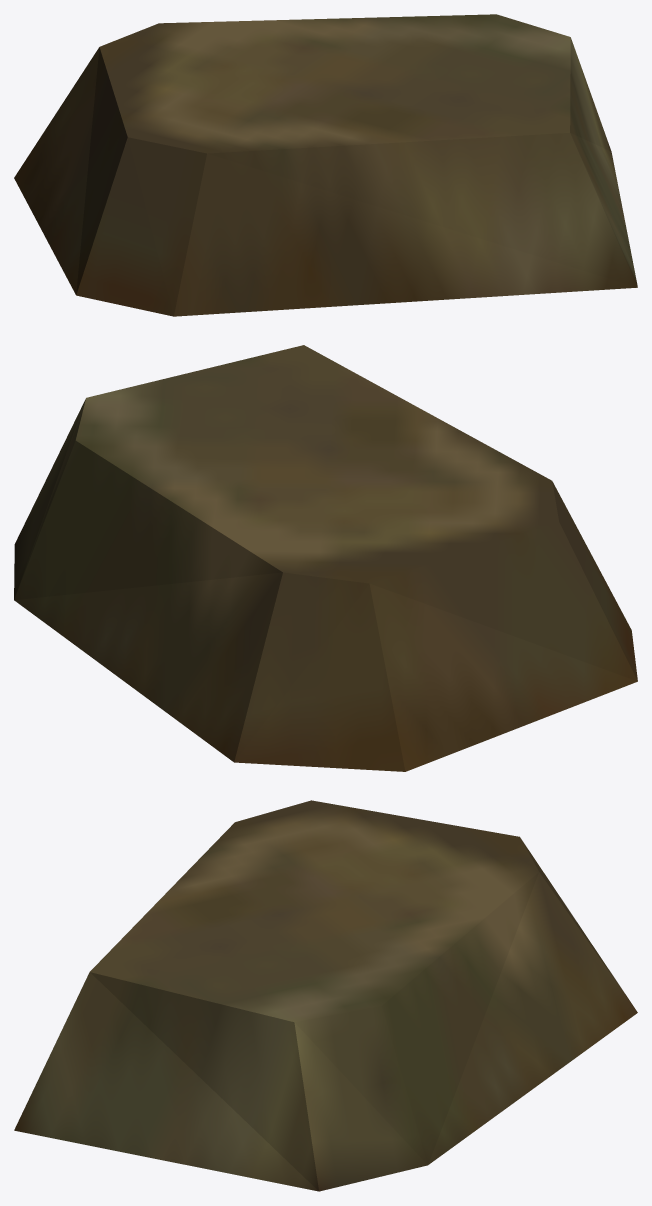
Rendered from road_rock_03.fbx.
The picture shows the model from 3 angles, top to bottom: view 1: azimuth 30°, elevation 25°; view 2: azimuth 150°, elevation 25°; view 3: azimuth 270°, elevation 25°; orthographic projection. The views are drawn at different scales.
Parts seen in each view (by area): view 1: obj0.124; view 2: obj0.124; view 3: obj0.124.
Part boxes in pixels (box(x1,y1,x2,y2)): obj0.124: box(14, 14, 637, 316); obj0.124: box(14, 345, 637, 771); obj0.124: box(14, 800, 637, 1191).
Size of the model in its own units: 0.7438 by 0.1764 by 0.7003.
